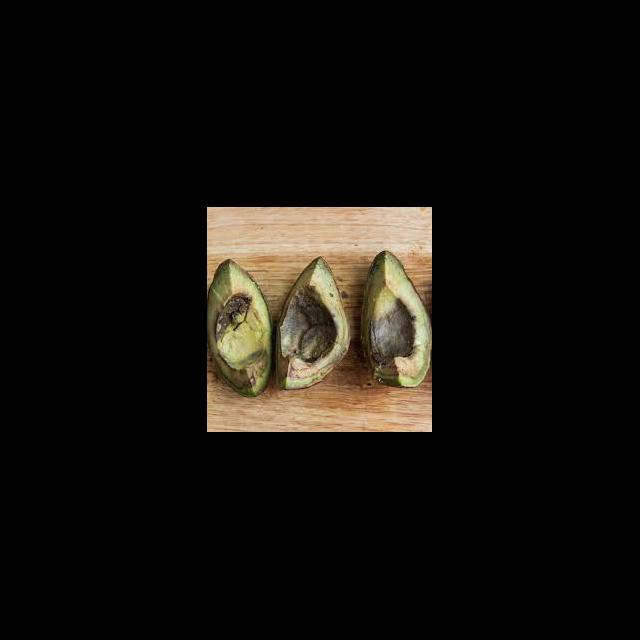food_waste: (208, 248, 432, 410)
